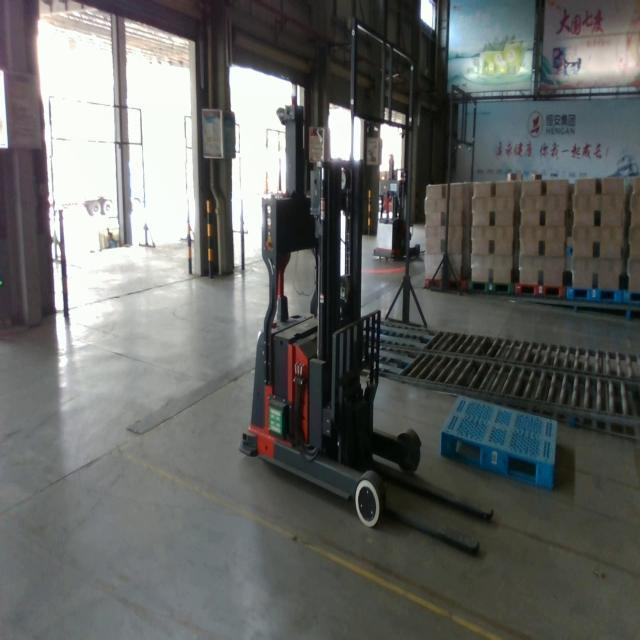forklift: (237, 95, 496, 559), (372, 151, 425, 273)
